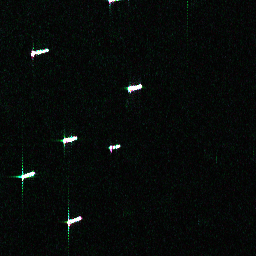ship: (29, 46, 51, 59), (65, 213, 83, 227), (60, 133, 79, 145), (125, 82, 144, 93), (20, 170, 37, 181), (108, 143, 122, 152)
